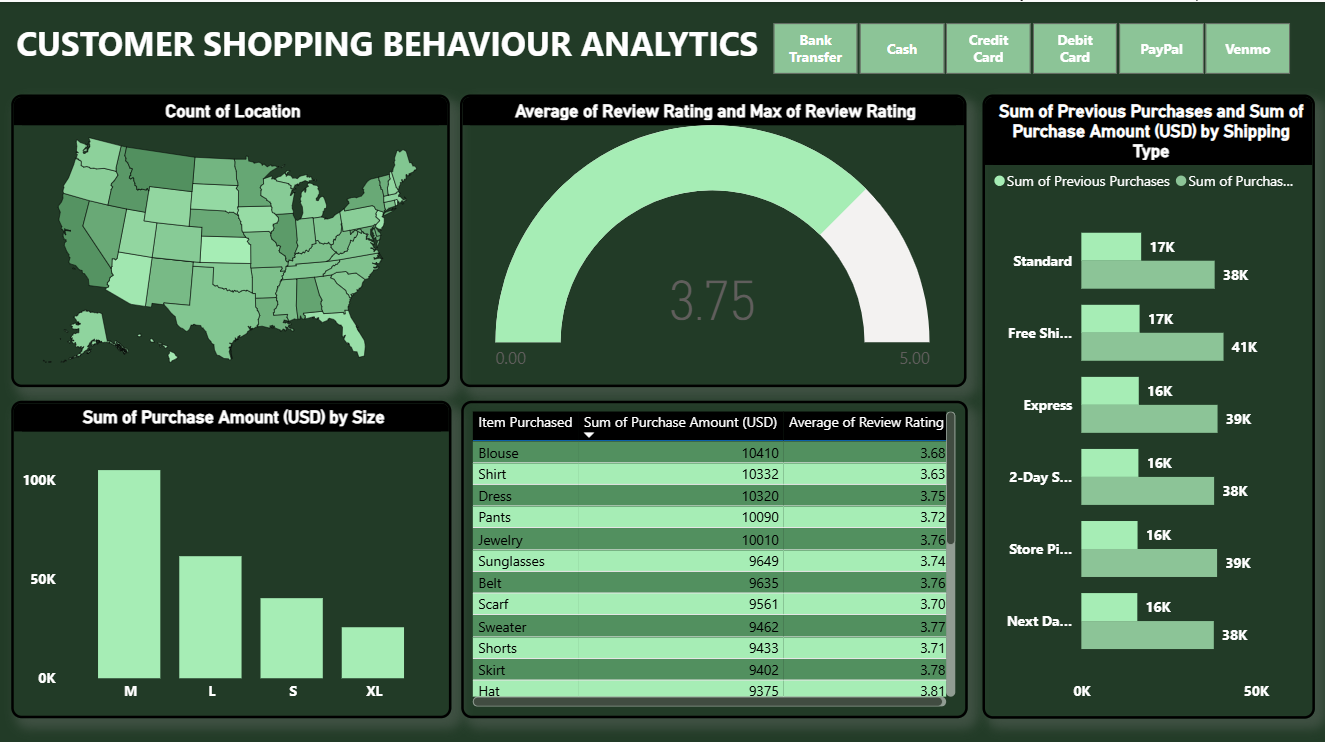

What the dashboard file says about the page in this screenshot:
{"tool":"powerbi","page":{"name":"Page 1","canvas":[1280,720],"ordinal":0},"visuals":[{"type":"textbox","box":[10.9,13.3,731.1,62.7],"z":0},{"type":"shapeMap","title":"Count of Location","fields":{"Value":["CountNonNull(shopping_trends.Location)"],"Category":["shopping_trends.Location"]},"box":[10.9,89.3,423.5,282.3],"z":1000},{"type":"gauge","fields":{"Y":["Avg(shopping_trends.Review Rating)"],"MaxValue":["Max(shopping_trends.Review Rating)1"]},"box":[444,89.3,488.6,282.3],"z":2000},{"type":"clusteredColumnChart","fields":{"Y":["Sum(shopping_trends.Purchase Amount (USD))"],"Category":["shopping_trends.Size"]},"box":[10.9,384.9,424.7,306.4],"z":3000},{"type":"tableEx","fields":{"Values":["shopping_trends.Item Purchased","Sum(shopping_trends.Purchase Amount (USD))","Avg(shopping_trends.Review Rating)"]},"box":[445.2,384.9,488.6,306.4],"z":4000},{"type":"clusteredBarChart","fields":{"Category":["shopping_trends.Shipping Type"],"Y":["Sum(shopping_trends.Previous Purchases)","Sum(shopping_trends.Purchase Amount (USD))"]},"box":[948.3,89.3,320.9,602],"z":5000},{"type":"slicer","fields":{"Values":["shopping_trends.Payment Method"]},"box":[720.2,13.3,548.9,62.7],"z":6000}]}

Visuals, with their boxes in screenshot pixels (x1, y1, x2, y2), scaled from the page's 1280x720 canvas onto the 1325x742 screenshot:
textbox: crop(11, 14, 768, 78)
"Count of Location" shapeMap: crop(11, 92, 450, 383)
gauge - Avg(shopping_trends.Review Rating) x Max(shopping_trends.Review Rating)1: crop(460, 92, 965, 383)
clusteredColumnChart - Sum(shopping_trends.Purchase Amount (USD)) x shopping_trends.Size: crop(11, 397, 451, 712)
tableEx - shopping_trends.Item Purchased x Sum(shopping_trends.Purchase Amount (USD)): crop(461, 397, 967, 712)
clusteredBarChart - shopping_trends.Shipping Type x Sum(shopping_trends.Previous Purchases): crop(982, 92, 1314, 712)
slicer - shopping_trends.Payment Method: crop(746, 14, 1314, 78)
